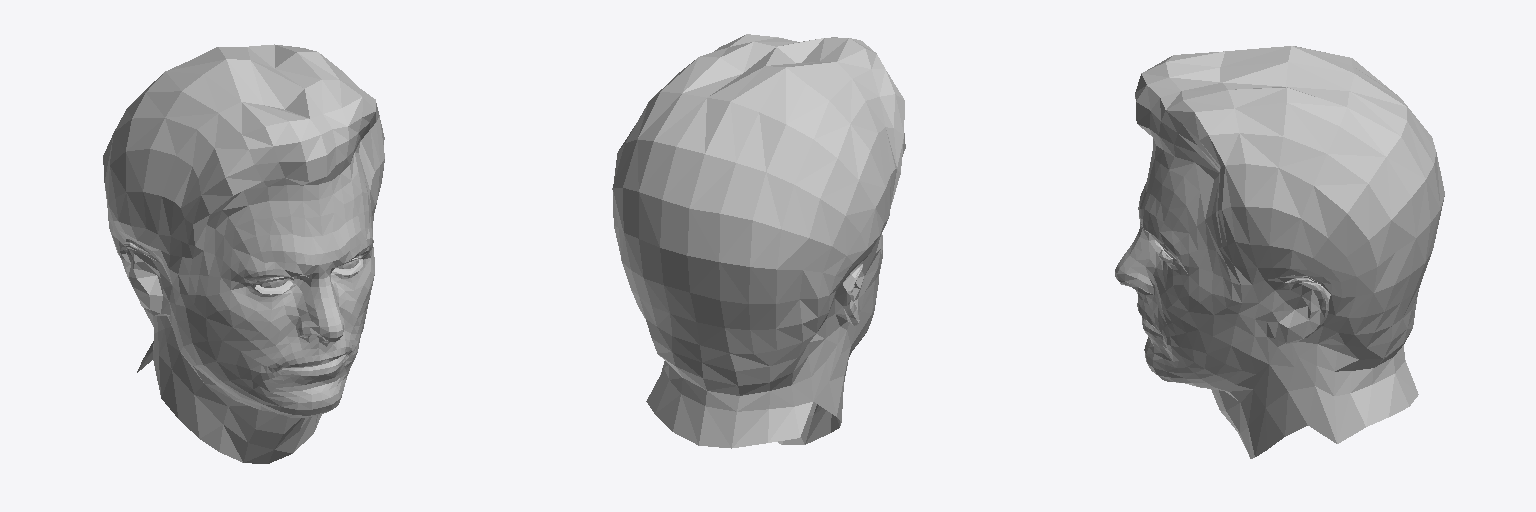
The model's file is glowka.obj.
3 renders of one model, left to right at view 1: azimuth 30°, elevation 25°; view 2: azimuth 150°, elevation 25°; view 3: azimuth 270°, elevation 25°, orthographic.
Visible parts, largest first — view 1: theillusiveman_illHead; view 2: theillusiveman_illHead; view 3: theillusiveman_illHead.
Boxes of the visible parts, x1,y1,x2,y2 form: theillusiveman_illHead: [103, 44, 384, 463]; theillusiveman_illHead: [612, 34, 905, 448]; theillusiveman_illHead: [1115, 46, 1444, 458].
Bounding box in the file's own units: 7.3 × 11.67 × 8.8.